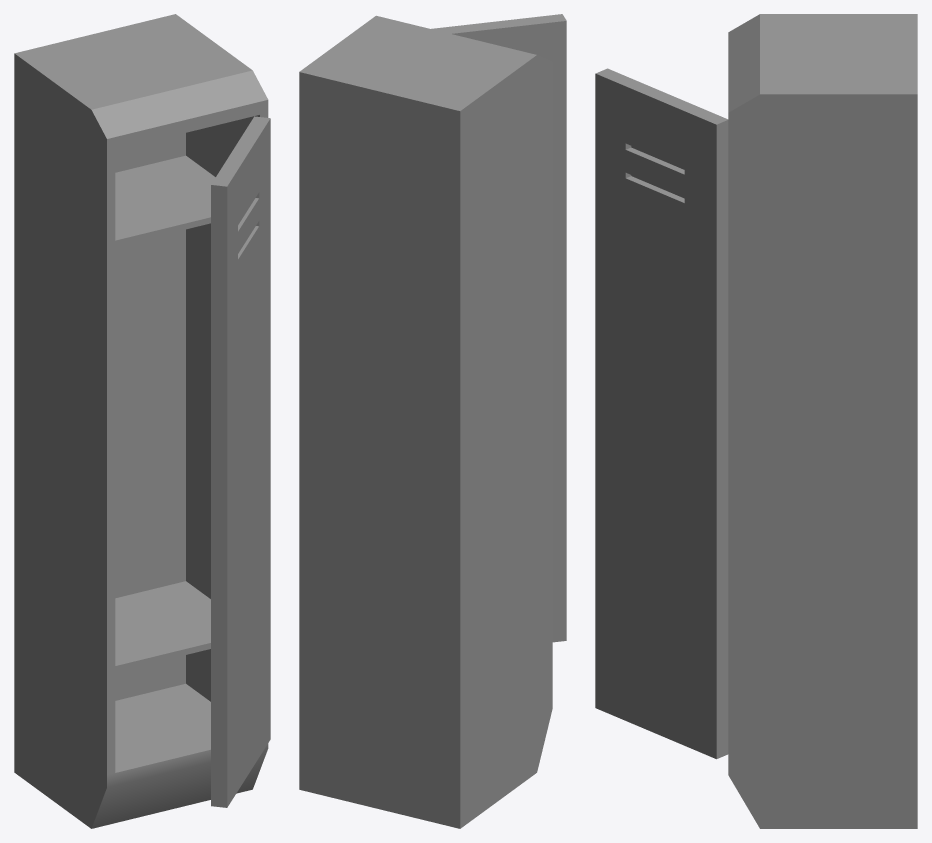
The model's file is LOCKEROPEN.fbx.
3 views of the same model, side by side, from view 1: azimuth 30°, elevation 25°; view 2: azimuth 150°, elevation 25°; view 3: azimuth 270°, elevation 25° (orthographic). The views are drawn at different scales.
Parts seen in each view (by area): view 1: Locker.001, door, Locker; view 2: Locker.001, door; view 3: Locker.001, door.
Part boxes in pixels (x1=…): Locker.001: x1=14, y1=14, x2=268, y2=828; door: x1=211, y1=116, x2=270, y2=807; Locker: x1=115, y1=155, x2=215, y2=671; Locker.001: x1=299, y1=15, x2=552, y2=828; door: x1=431, y1=14, x2=566, y2=642; Locker.001: x1=728, y1=14, x2=917, y2=828; door: x1=595, y1=68, x2=728, y2=759.
Bounding box in the file's own units: 0.9137 × 2.3 × 0.54.
